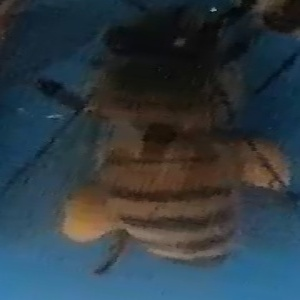bee: (28, 10, 263, 279)
